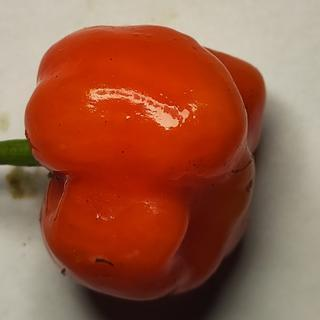Grade-B: (20, 20, 269, 302)
